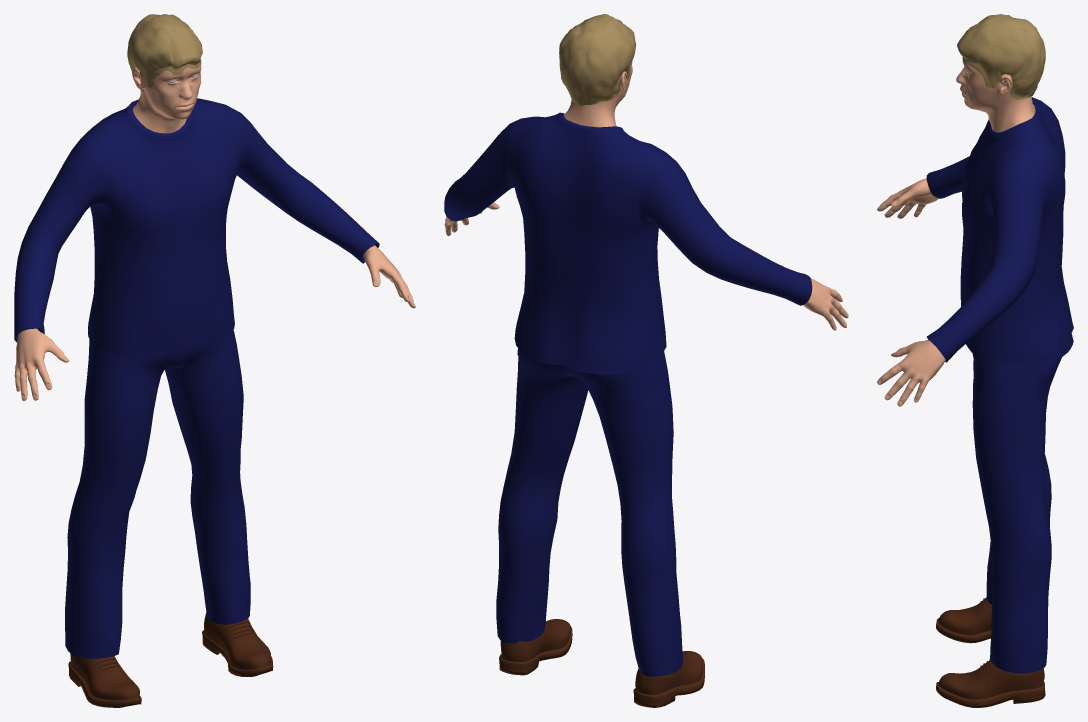
File: Player1.fbx
The picture shows the model from 3 angles, left to right: view 1: azimuth 30°, elevation 25°; view 2: azimuth 150°, elevation 25°; view 3: azimuth 270°, elevation 25°; orthographic projection.
Visible parts, largest first — view 1: jogadorvestido_male_casualsuit02Mesh_mesh0, jogadorvestido_male_muscle_13290Mesh_mesh0, jogadorvestido_shoes03Mesh_mesh0, jogadorvestido_short02Mesh_mesh0; view 2: jogadorvestido_male_casualsuit02Mesh_mesh0, jogadorvestido_short02Mesh_mesh0, jogadorvestido_shoes03Mesh_mesh0, jogadorvestido_male_muscle_13290Mesh_mesh0; view 3: jogadorvestido_male_casualsuit02Mesh_mesh0, jogadorvestido_male_muscle_13290Mesh_mesh0, jogadorvestido_shoes03Mesh_mesh0, jogadorvestido_short02Mesh_mesh0.
Boxes of the visible parts, left/top/right/bottom form: jogadorvestido_male_casualsuit02Mesh_mesh0: left=14, top=98, right=379, bottom=658; jogadorvestido_male_muscle_13290Mesh_mesh0: left=14, top=64, right=415, bottom=400; jogadorvestido_shoes03Mesh_mesh0: left=68, top=613, right=273, bottom=707; jogadorvestido_short02Mesh_mesh0: left=127, top=14, right=202, bottom=91; jogadorvestido_male_casualsuit02Mesh_mesh0: left=444, top=112, right=812, bottom=676; jogadorvestido_short02Mesh_mesh0: left=559, top=14, right=636, bottom=105; jogadorvestido_shoes03Mesh_mesh0: left=499, top=619, right=704, bottom=707; jogadorvestido_male_muscle_13290Mesh_mesh0: left=444, top=61, right=848, bottom=330; jogadorvestido_male_casualsuit02Mesh_mesh0: left=926, top=97, right=1073, bottom=673; jogadorvestido_male_muscle_13290Mesh_mesh0: left=877, top=60, right=1035, bottom=406; jogadorvestido_shoes03Mesh_mesh0: left=936, top=597, right=1045, bottom=707; jogadorvestido_short02Mesh_mesh0: left=957, top=14, right=1045, bottom=99.
Bounding box in the file's own units: 166 × 264 × 72.87.
